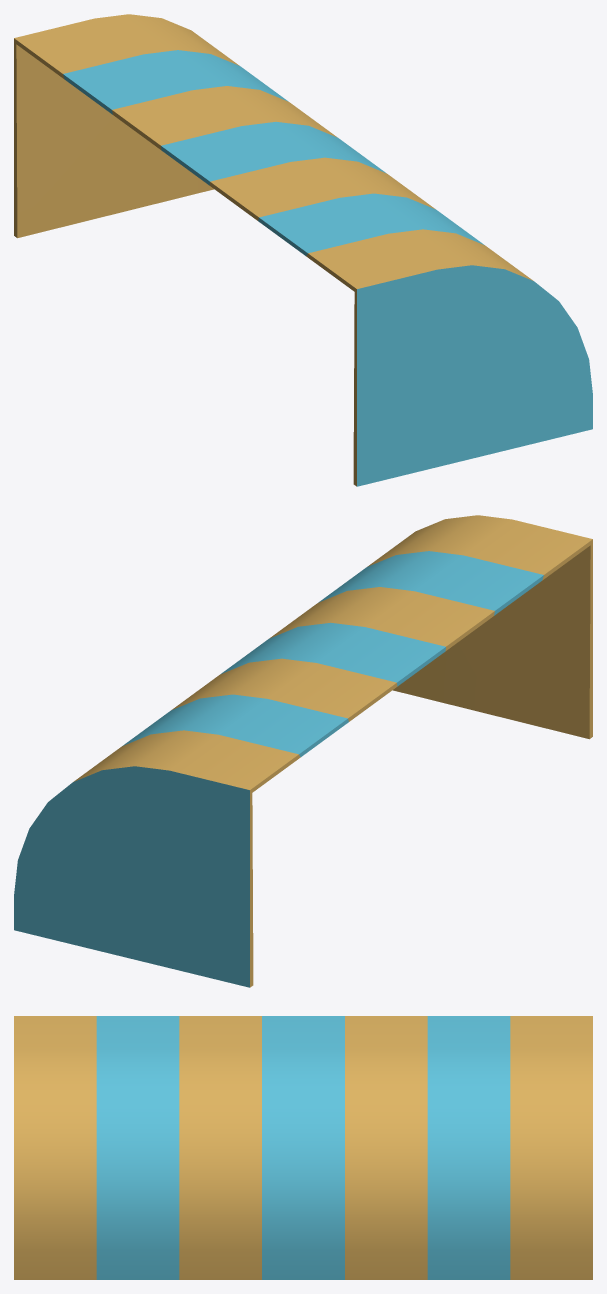
Rendered from Awning.1.fbx.
The picture shows the model from 3 angles, top to bottom: view 1: azimuth 30°, elevation 25°; view 2: azimuth 150°, elevation 25°; view 3: azimuth 270°, elevation 25°; orthographic projection. The views are drawn at different scales.
Parts seen in each view (by area): view 1: Plane; view 2: Plane; view 3: Plane.
Boxes of the visible parts, box(x1,y1,x2,y2) form: Plane: box(14, 14, 592, 486); Plane: box(14, 515, 592, 987); Plane: box(14, 1016, 592, 1279).
Size of the model in its own units: 0.4833 by 0.3866 by 1.22.
